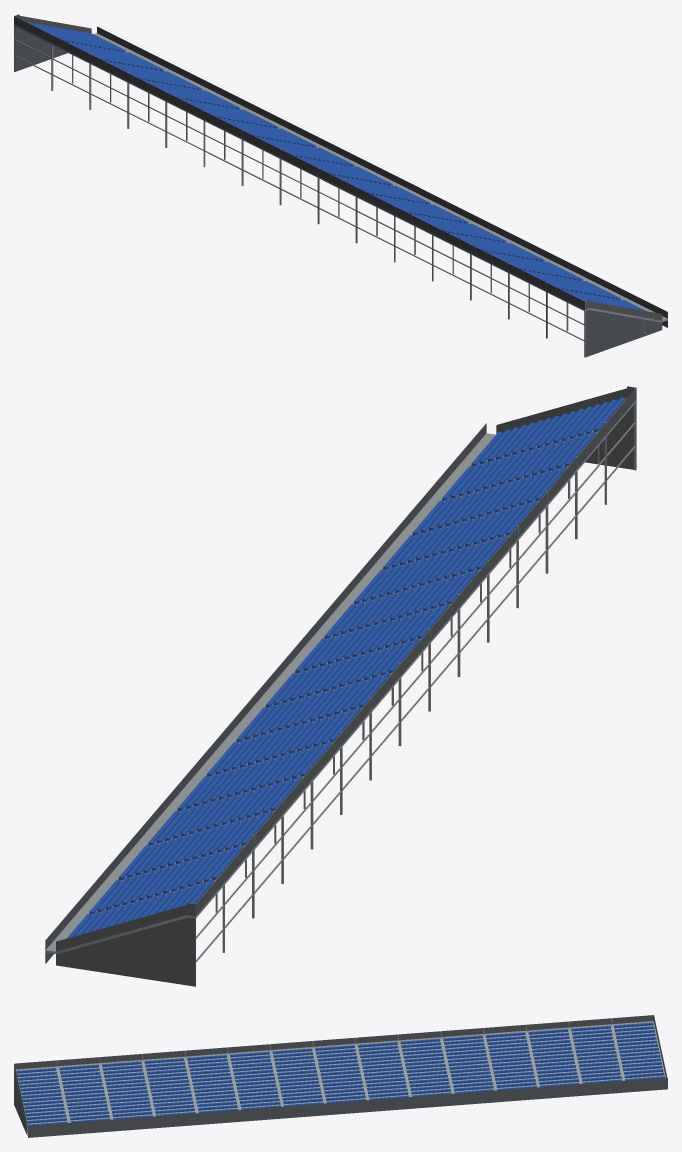
The model's file is spa_stand_speed_corner.glb.
3 views of the same model, one above another, from view 1: azimuth 30°, elevation 25°; view 2: azimuth 150°, elevation 25°; view 3: azimuth 270°, elevation 25° (orthographic). The views are drawn at different scales.
Visible parts, largest first — view 1: spa-speed-corner; view 2: spa-speed-corner; view 3: spa-speed-corner.
Part boxes in pixels (x1,y1,x2,y2): spa-speed-corner: [14, 14, 667, 357]; spa-speed-corner: [45, 386, 636, 986]; spa-speed-corner: [14, 1015, 667, 1137].
Size of the model in its own units: 35.7 by 8.36 by 121.
